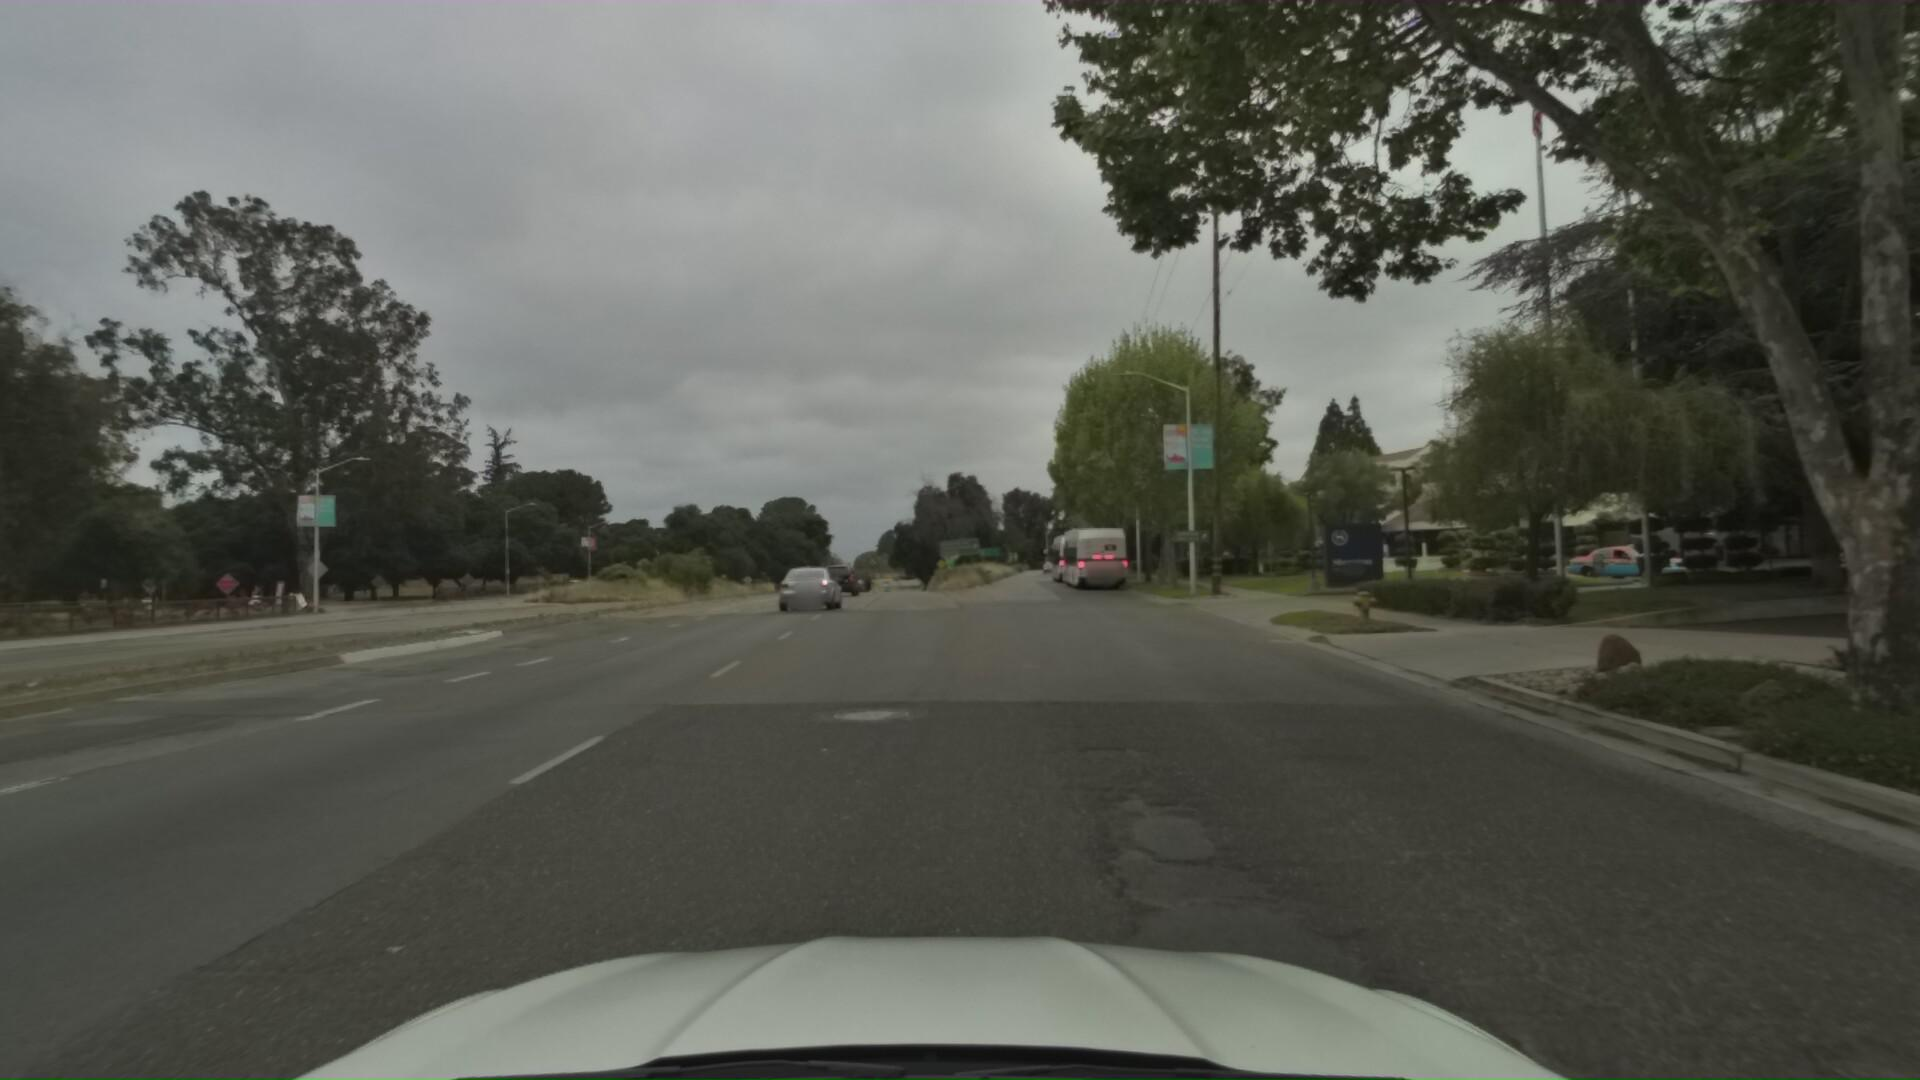bus: (1056, 506, 1134, 580), (1869, 451, 1920, 555), (1046, 517, 1101, 574)
car: (1553, 524, 1712, 568), (766, 539, 847, 599), (1816, 506, 1920, 549), (1853, 509, 1920, 551), (814, 545, 860, 584)
